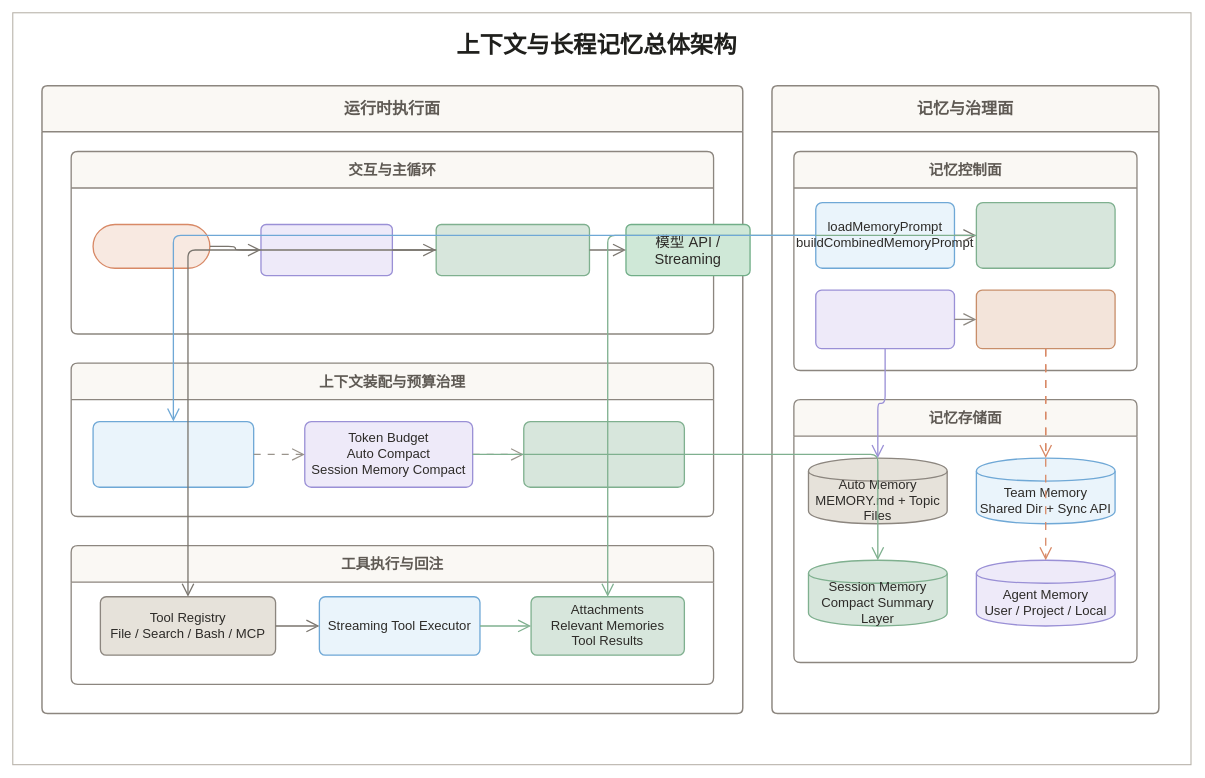
The diagram is 1205 pixels wide and 778 high, and some of its shapes have lost their labels. Each missing label, with the centre of its shape:
extractMemories 异步沉淀引擎: point (885, 319)
findRelevantMemories side-query 选择器: point (1045, 235)
query.ts 主循环: point (512, 249)
QueryEngine: point (326, 249)
Relevant Memory Prefetch / Recall: point (604, 454)
System Prompt User Context System Context: point (173, 454)
Team Sync / Secret Guard Snapshot / Scope Routing: point (1045, 319)
用户 / REPL: point (151, 246)
